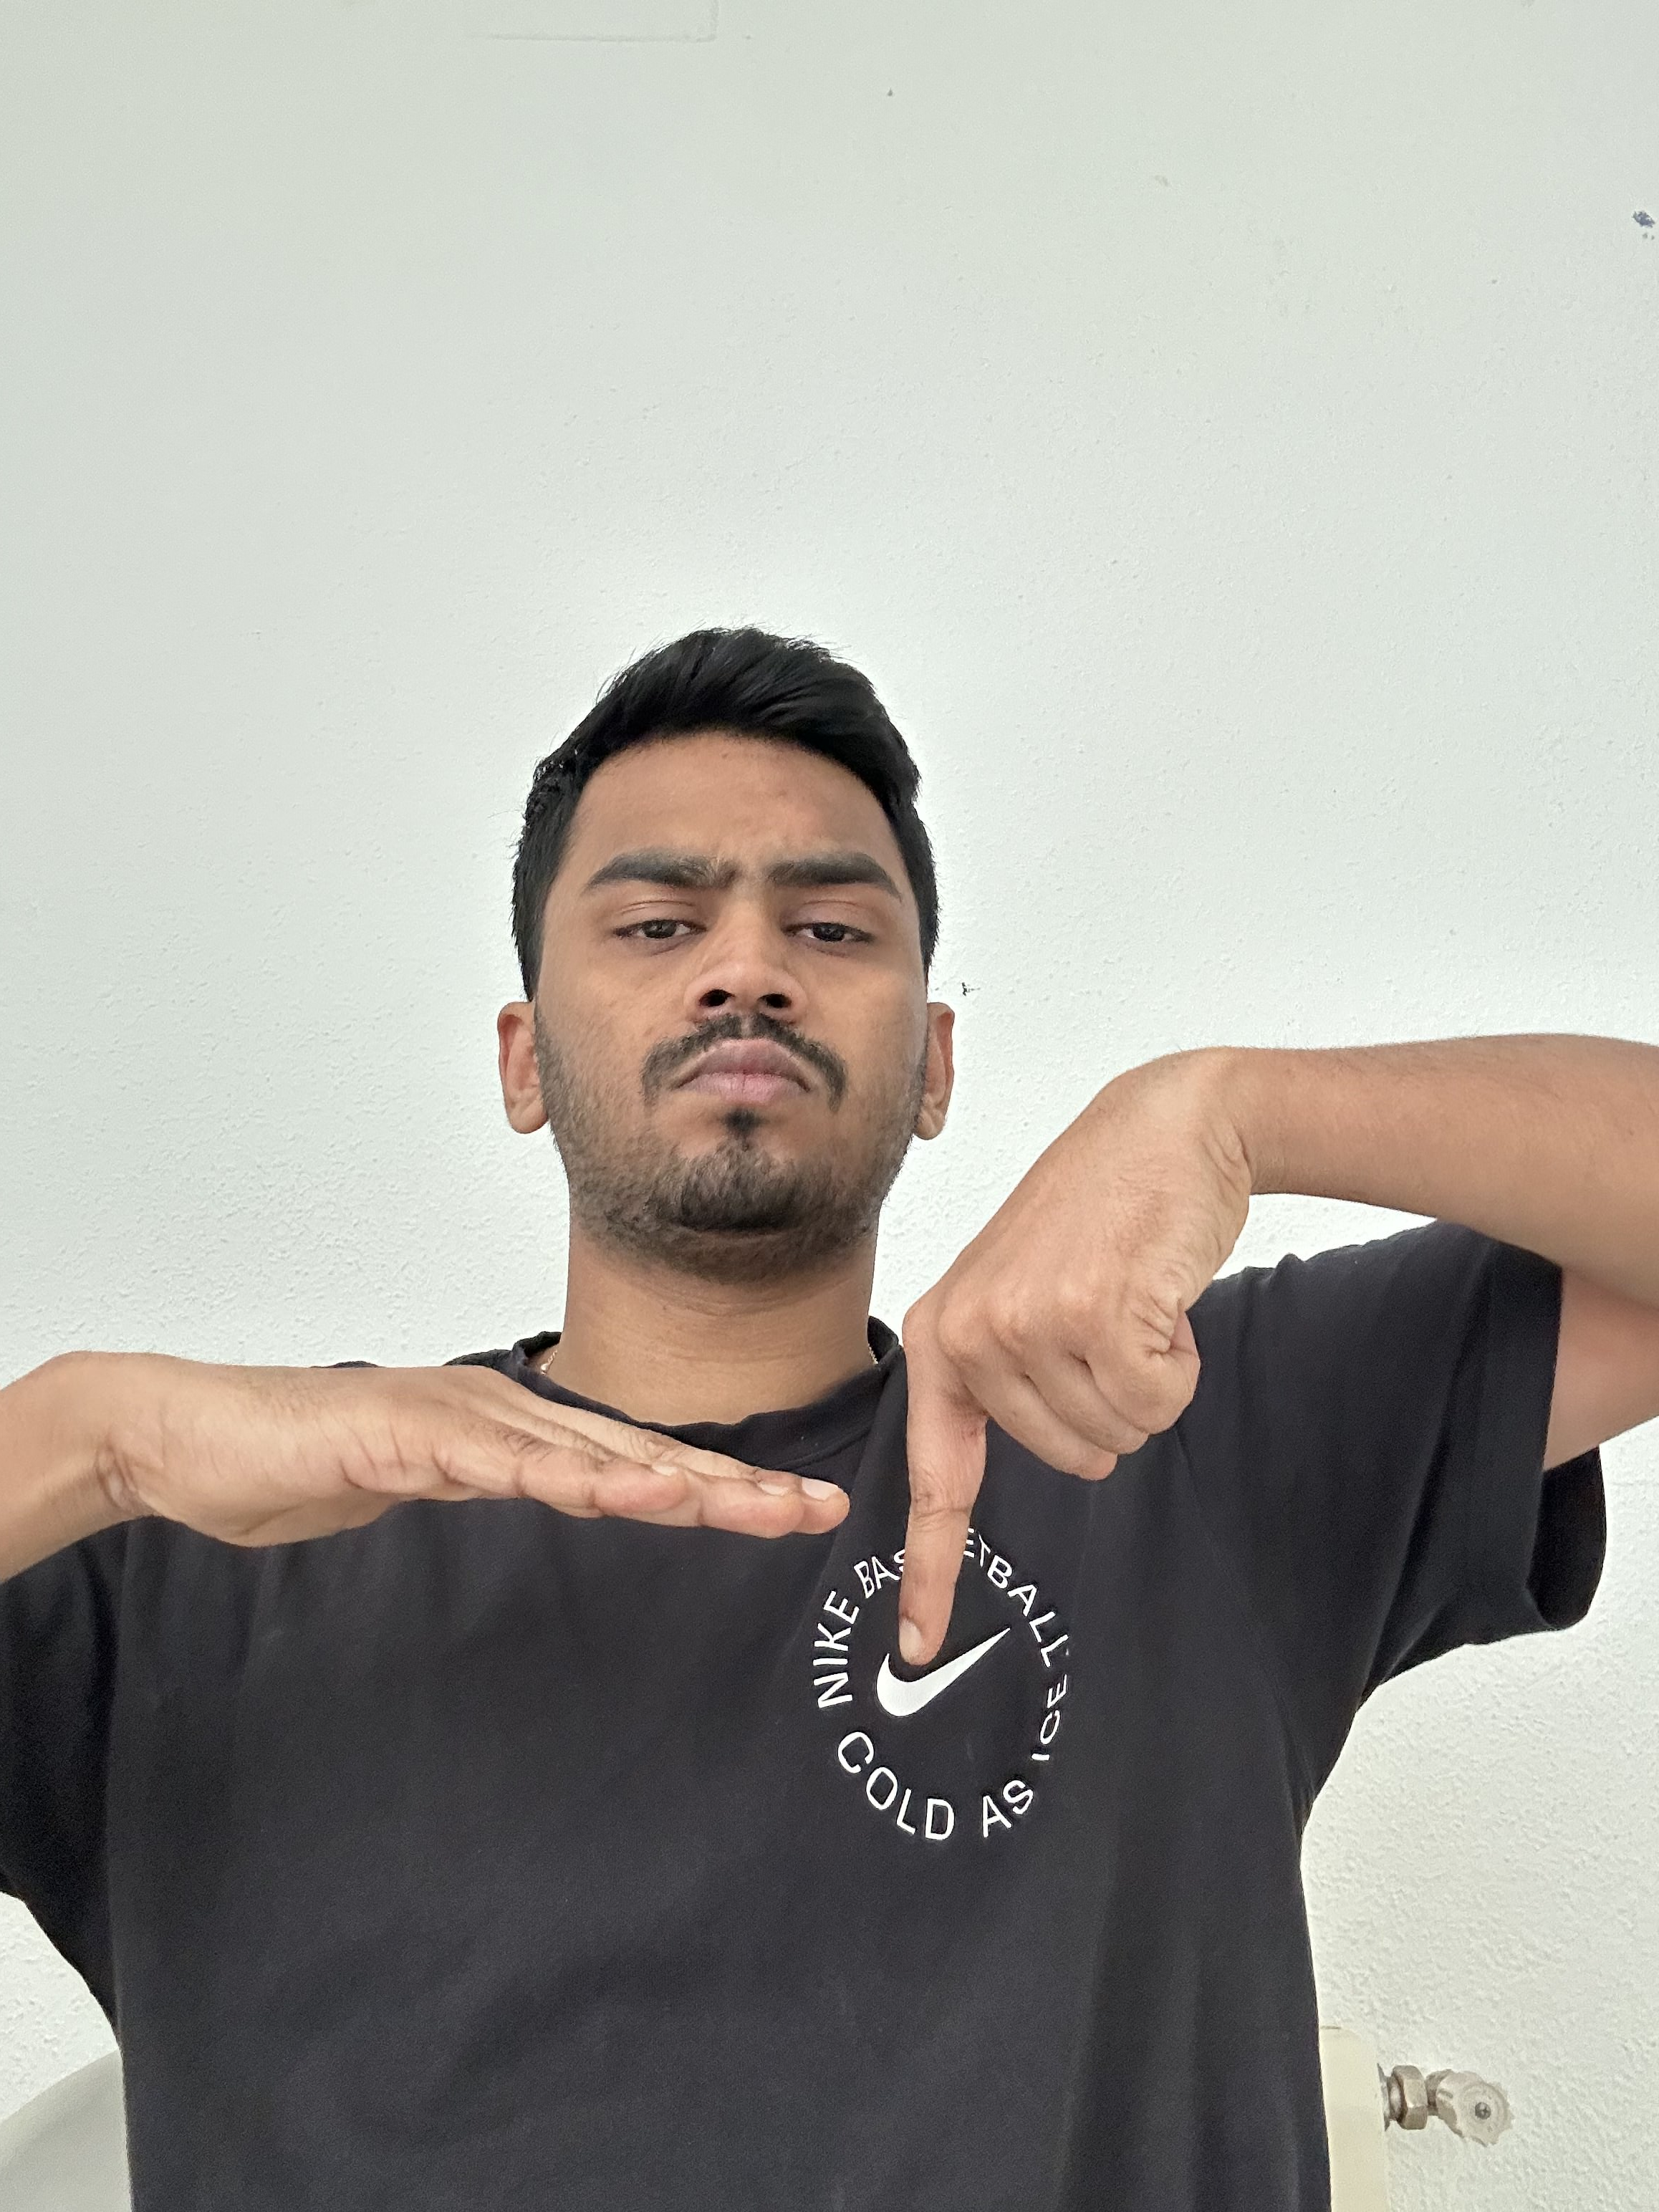deep: (5, 622, 1650, 2203)
